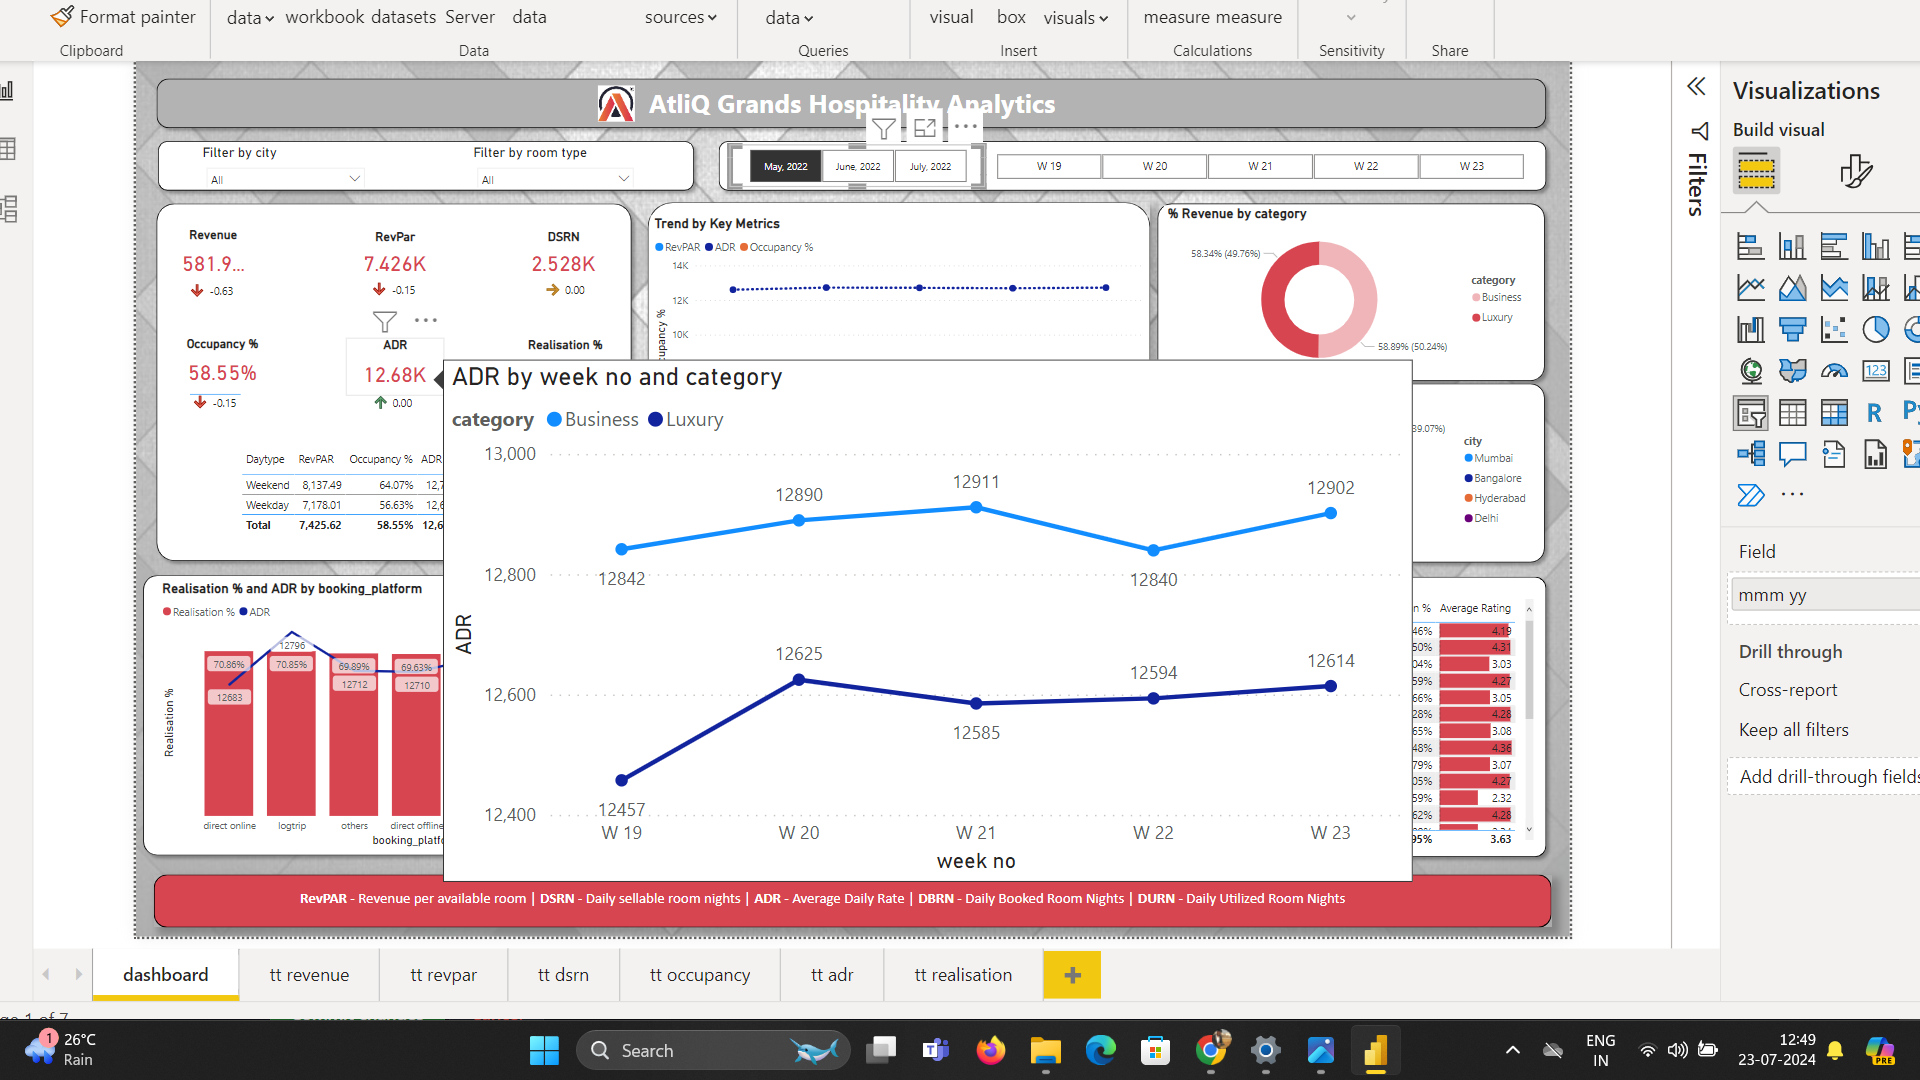

The page's visual inventory and layout, read from the dashboard file:
{"tool":"powerbi","page":{"name":"tt adr","canvas":[650,350],"ordinal":5},"visuals":[{"type":"lineChart","fields":{"Category":["DIM_DATE.week no"],"Series":["DIM_HOTEL.category"],"Y":["key_measures.ADR"]},"box":[0,0,649,349],"z":0}]}

Visuals, with their boxes on the page's 650x350 design canvas (x1, y1, x2, y2). These are canvas units, not pixel positions in the 1920x1080 screenshot, which may show the page scaled, cropped or inside an application window:
lineChart - DIM_DATE.week no x DIM_HOTEL.category: (x1=0, y1=0, x2=649, y2=349)
